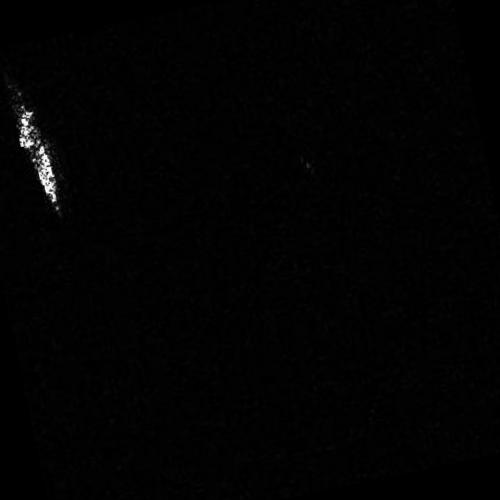ship: (14, 103, 60, 206)
